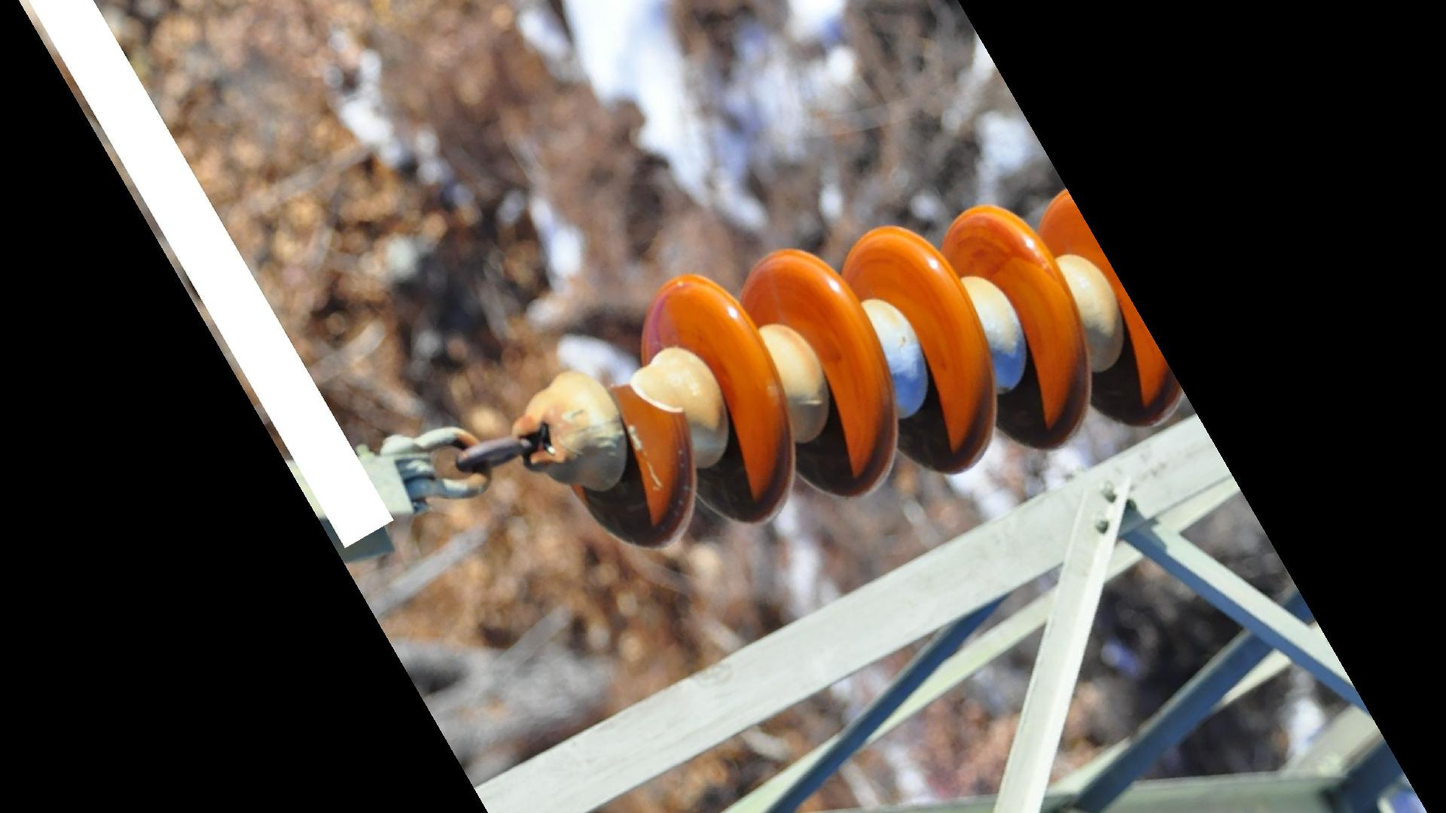insulator: (549, 178, 1194, 556)
insulator_breakage: (596, 376, 694, 431)
